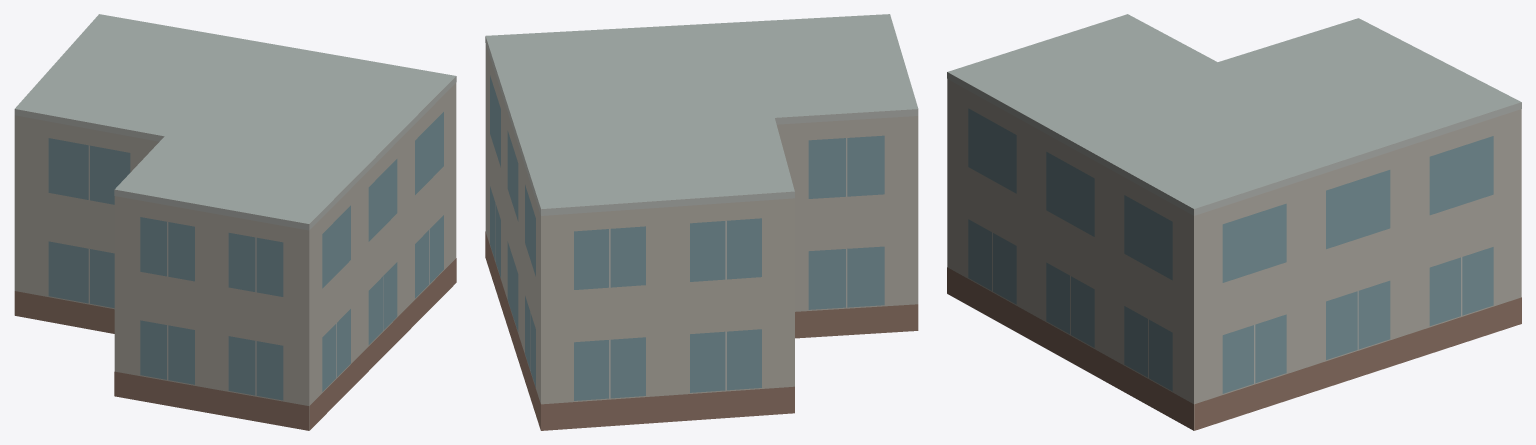
The model's file is survey-upis-32739360.glb.
The picture shows the model from 3 angles, left to right: view 1: azimuth 30°, elevation 25°; view 2: azimuth 150°, elevation 25°; view 3: azimuth 270°, elevation 25°; orthographic projection. The views are drawn at different scales.
Parts seen in each view (by area): view 1: survey-upis-32739360.tmp; view 2: survey-upis-32739360.tmp; view 3: survey-upis-32739360.tmp.
Part boxes in pixels (x1=…): survey-upis-32739360.tmp: x1=14, y1=14, x2=456, y2=430; survey-upis-32739360.tmp: x1=485, y1=14, x2=918, y2=430; survey-upis-32739360.tmp: x1=947, y1=14, x2=1521, y2=430.
Bounding box in the file's own units: 14.92 × 7.9 × 18.56.
